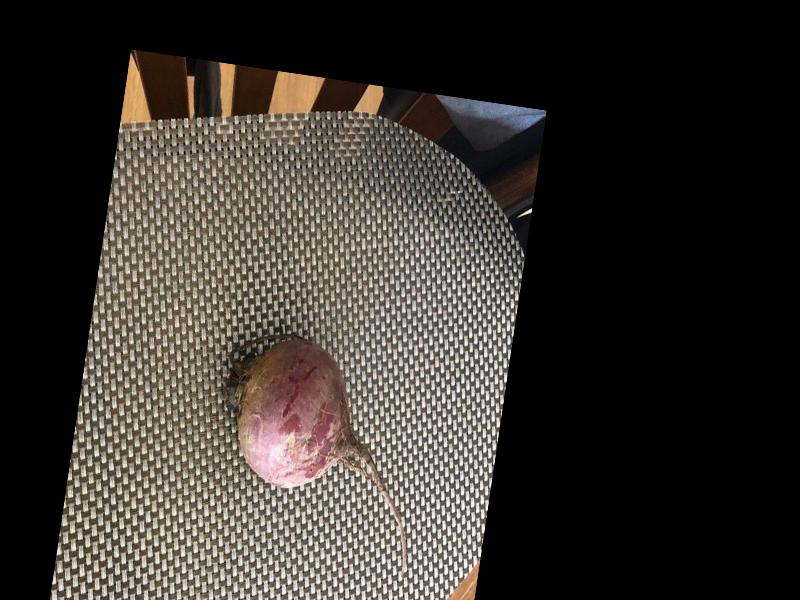Beet: (199, 327, 438, 572)
